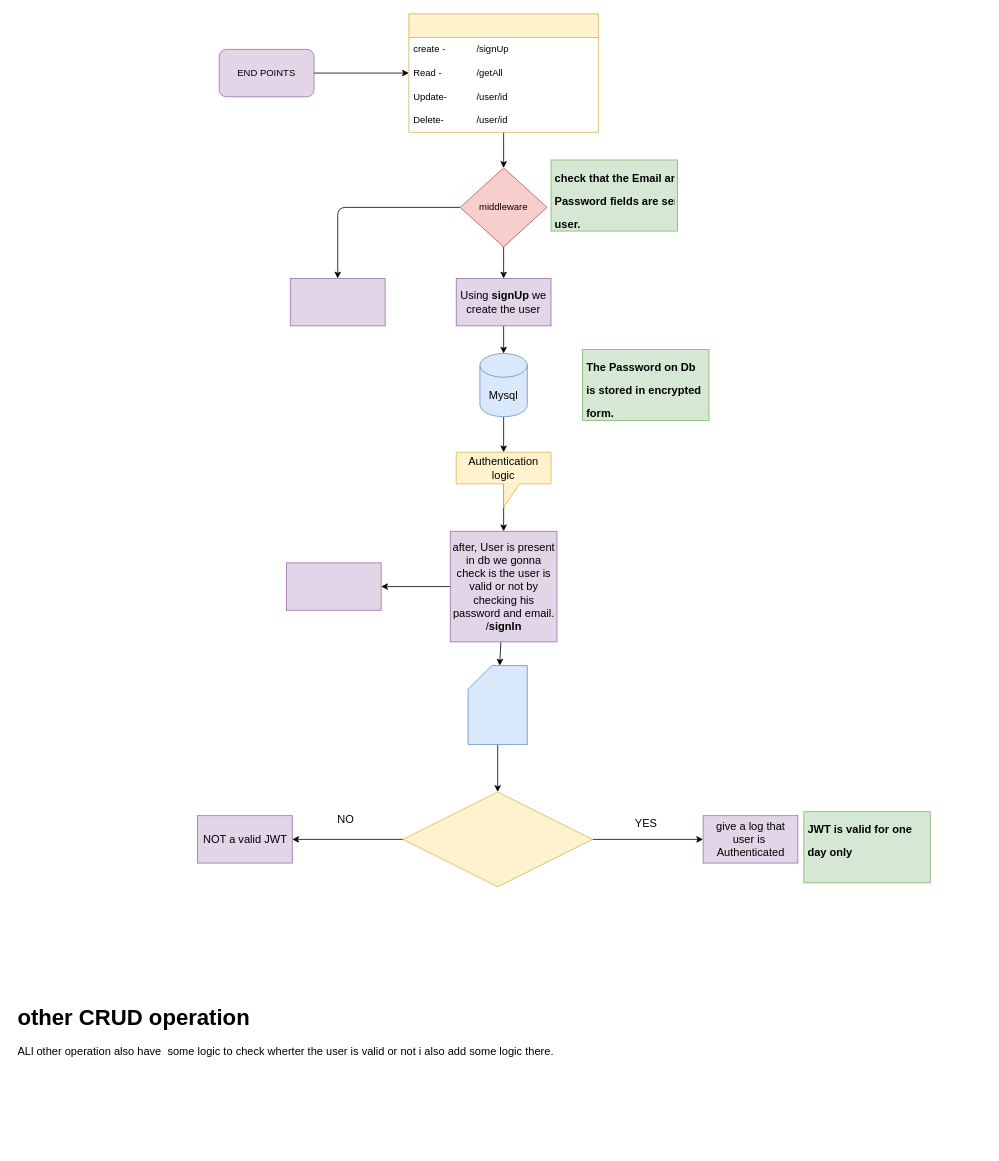
The diagram is 999 pixels wide and 1161 high, and some of its shapes have lost their labels. Here are the shapes that lost their labels. From the top down, the box of each, then its label:
(408, 13, 598, 132): ROUTES
(290, 278, 385, 326): Give Error that Password or Email is missing
(286, 562, 381, 610): Password or Email not valid it not gonna give JWT
(467, 665, 527, 745): JWT Token is provided
(402, 791, 592, 887): JWT valid
